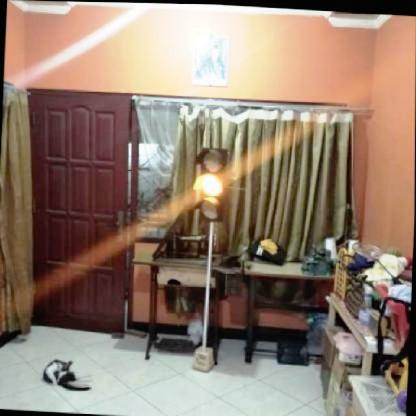Traffic Light -Yellow-: (193, 146, 228, 222)
